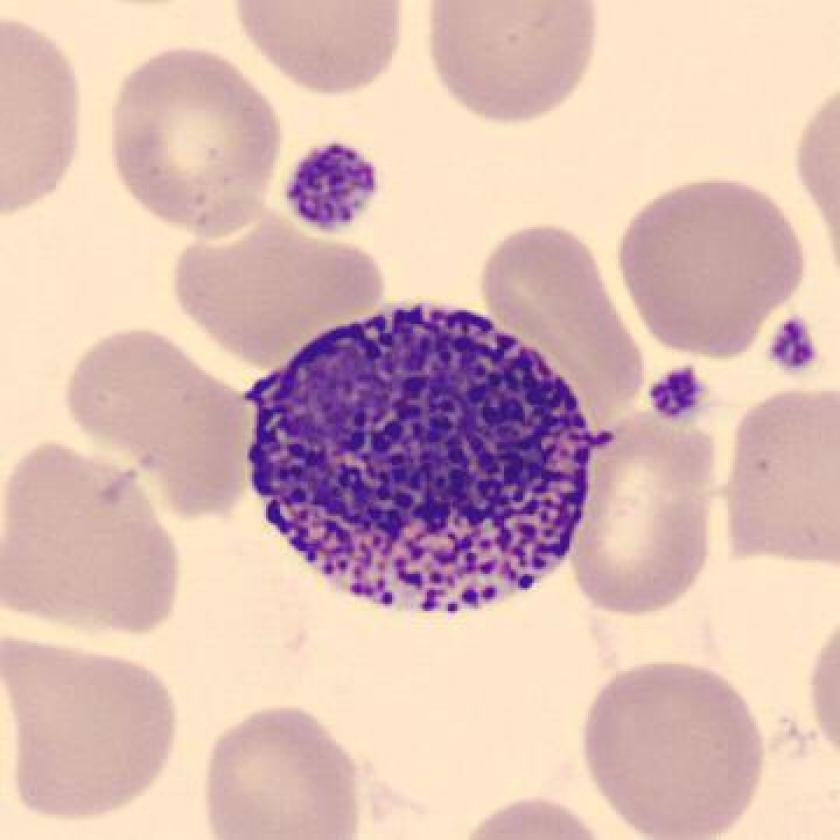basophil: (241, 295, 594, 623)
